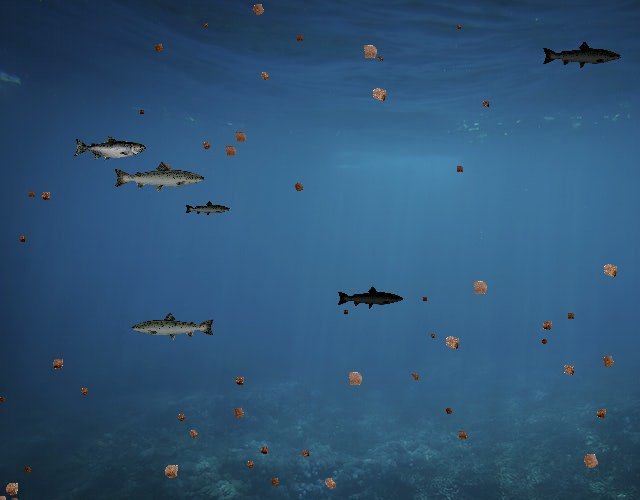Fish: (112, 161, 206, 195), (130, 311, 216, 342), (541, 40, 622, 69), (73, 135, 146, 162), (336, 285, 404, 310), (185, 200, 232, 217)
Pellet: (157, 458, 185, 486), (318, 472, 342, 496), (76, 383, 92, 399), (478, 97, 492, 111), (538, 335, 551, 348), (200, 20, 210, 30)
